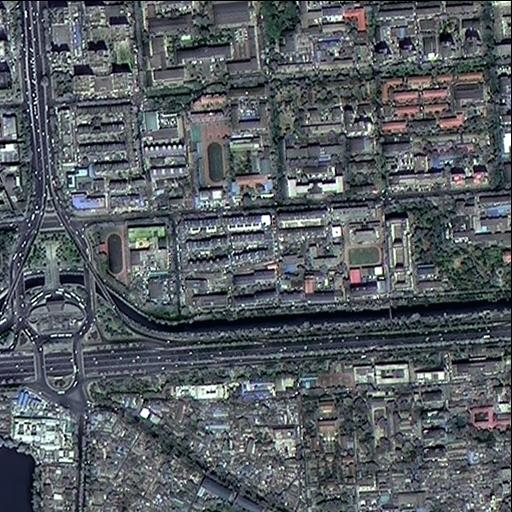school: (189, 118, 279, 206), (80, 213, 180, 290), (297, 353, 449, 394), (344, 217, 382, 269)
